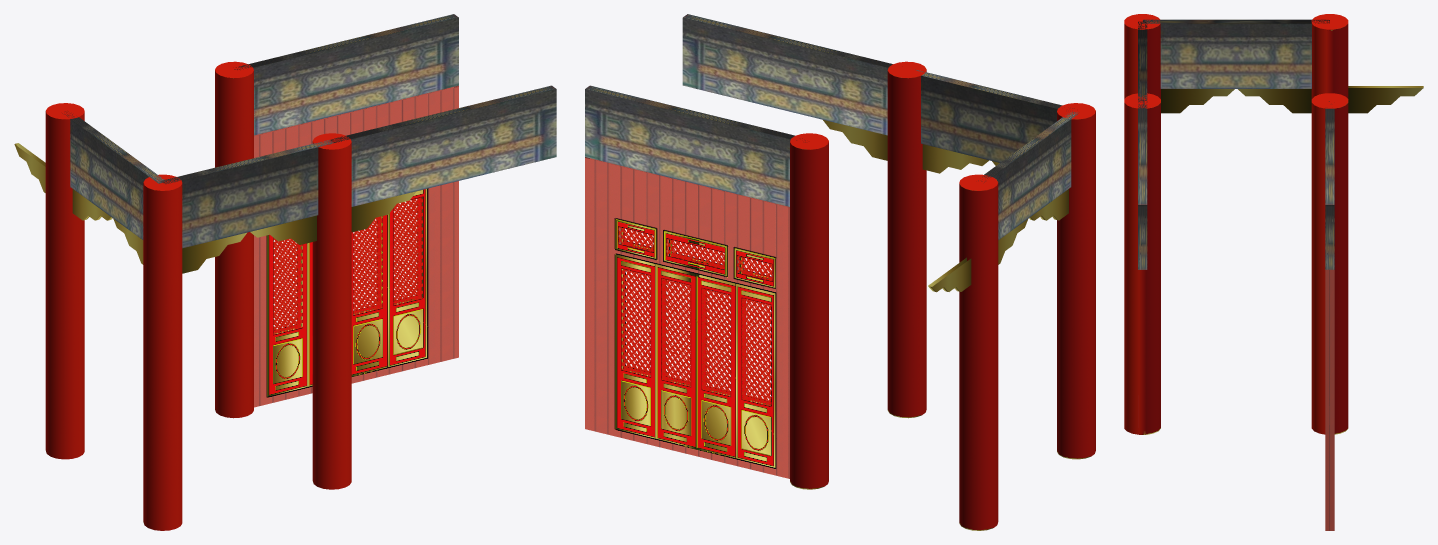
Rendered from cornerwall.dae.
3 views of the same model, side by side, from view 1: azimuth 30°, elevation 25°; view 2: azimuth 150°, elevation 25°; view 3: azimuth 270°, elevation 25° (orthographic). The views are drawn at different scales.
Parts seen in each view (by area): view 1: MainNode; view 2: MainNode; view 3: MainNode.
Boxes of the visible parts, box(x1,y1,x2,y2) form: MainNode: box(14, 14, 556, 530); MainNode: box(585, 14, 1095, 530); MainNode: box(1124, 14, 1423, 530).
Size of the model in its own units: 6.03 by 4.8 by 4.
Materials: 1 (1 with a texture image).
